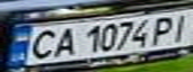0: (100, 20, 121, 52)
1: (78, 22, 103, 54)
4: (130, 17, 157, 48)
7: (115, 18, 139, 51)
A: (48, 25, 81, 58)
C: (21, 27, 63, 61)
I: (166, 11, 193, 43)
P: (145, 14, 181, 45)
